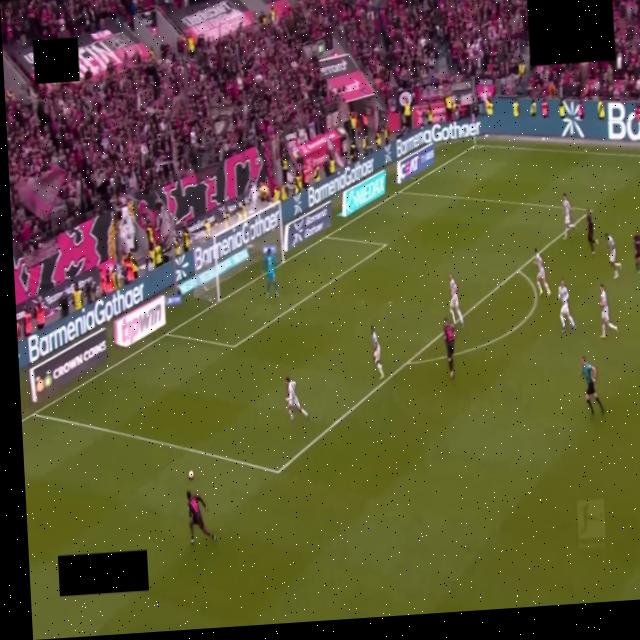ball: (188, 471, 193, 479)
player: (187, 491, 216, 544), (286, 378, 308, 420), (600, 284, 617, 338), (558, 281, 575, 332), (605, 233, 621, 279), (535, 249, 550, 297), (443, 318, 455, 378), (371, 326, 384, 379), (264, 248, 278, 297), (450, 274, 463, 326), (562, 193, 575, 239), (587, 210, 598, 254), (633, 230, 639, 274)
referee: (581, 357, 604, 417)
